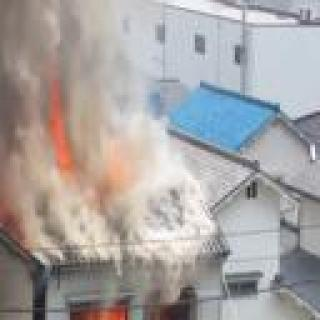fire: (42, 109, 134, 200), (66, 300, 199, 320), (0, 184, 8, 320)
